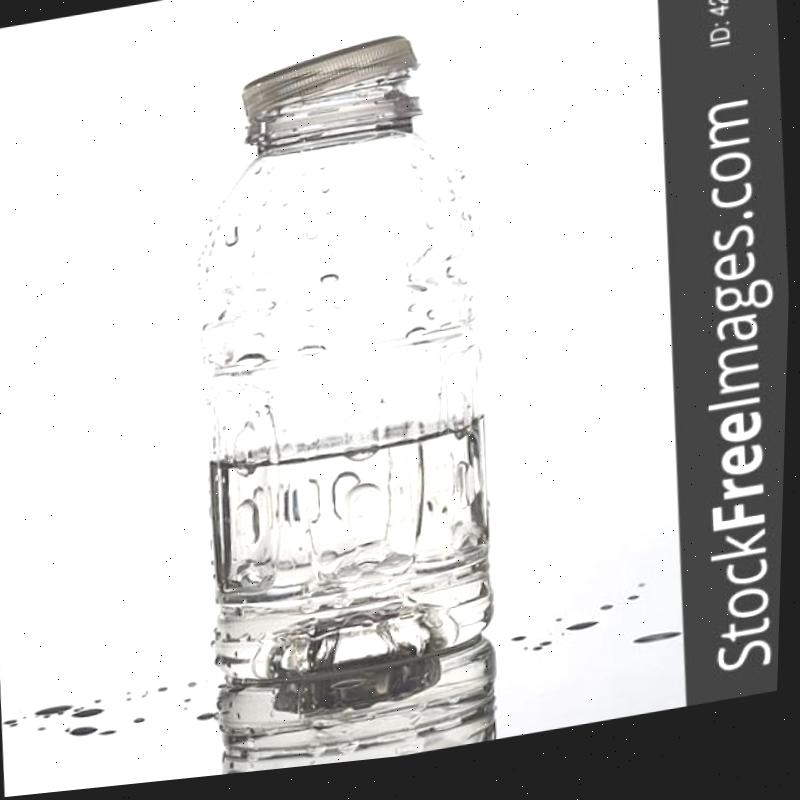botella: (172, 26, 514, 705)
